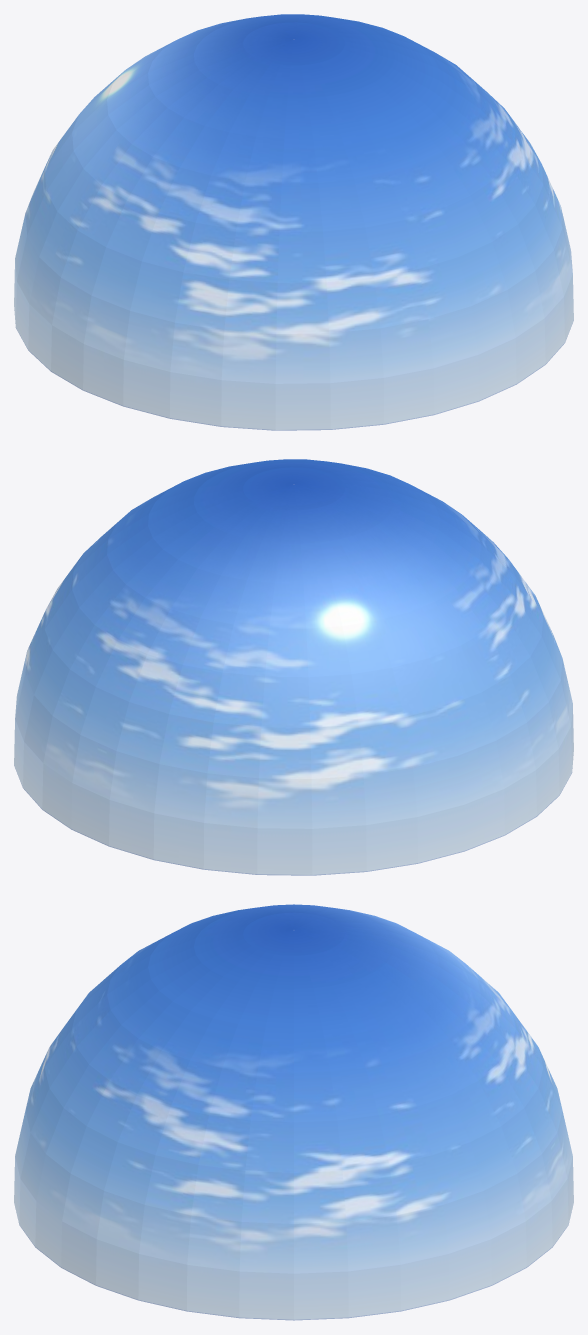
Rendered from lugar-lyon-ciudad.glb.
3 renders of one model, top to bottom at view 1: azimuth 30°, elevation 25°; view 2: azimuth 150°, elevation 25°; view 3: azimuth 270°, elevation 25°, orthographic.
Visible parts, largest first — view 1: planoC; view 2: planoC; view 3: planoC.
Boxes of the visible parts, x1=… form: planoC: x1=14, y1=14, x2=573, y2=430; planoC: x1=14, y1=459, x2=573, y2=875; planoC: x1=14, y1=904, x2=573, y2=1320.
Bounding box in the file's own units: 5985 × 3209 × 5985.
Materials: 26 (21 with a texture image).
